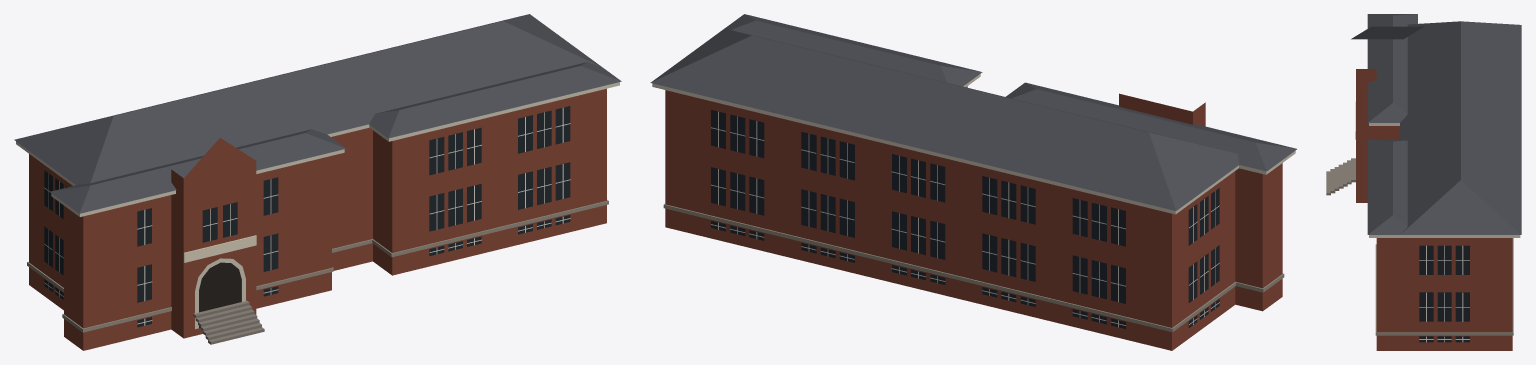
File: jones-high-school-1961.glb
3 views of the same model, side by side, from view 1: azimuth 30°, elevation 25°; view 2: azimuth 150°, elevation 25°; view 3: azimuth 270°, elevation 25° (orthographic). The views are drawn at different scales.
Visible parts, largest first — view 1: kit-jones-high-school-1961; view 2: kit-jones-high-school-1961; view 3: kit-jones-high-school-1961.
Part boxes in pixels (box(x1,y1,x2,y2)): kit-jones-high-school-1961: box(14, 14, 621, 350); kit-jones-high-school-1961: box(650, 14, 1296, 350); kit-jones-high-school-1961: box(1326, 14, 1521, 350).
Size of the model in its own units: 40.4 by 13.77 by 15.09.
